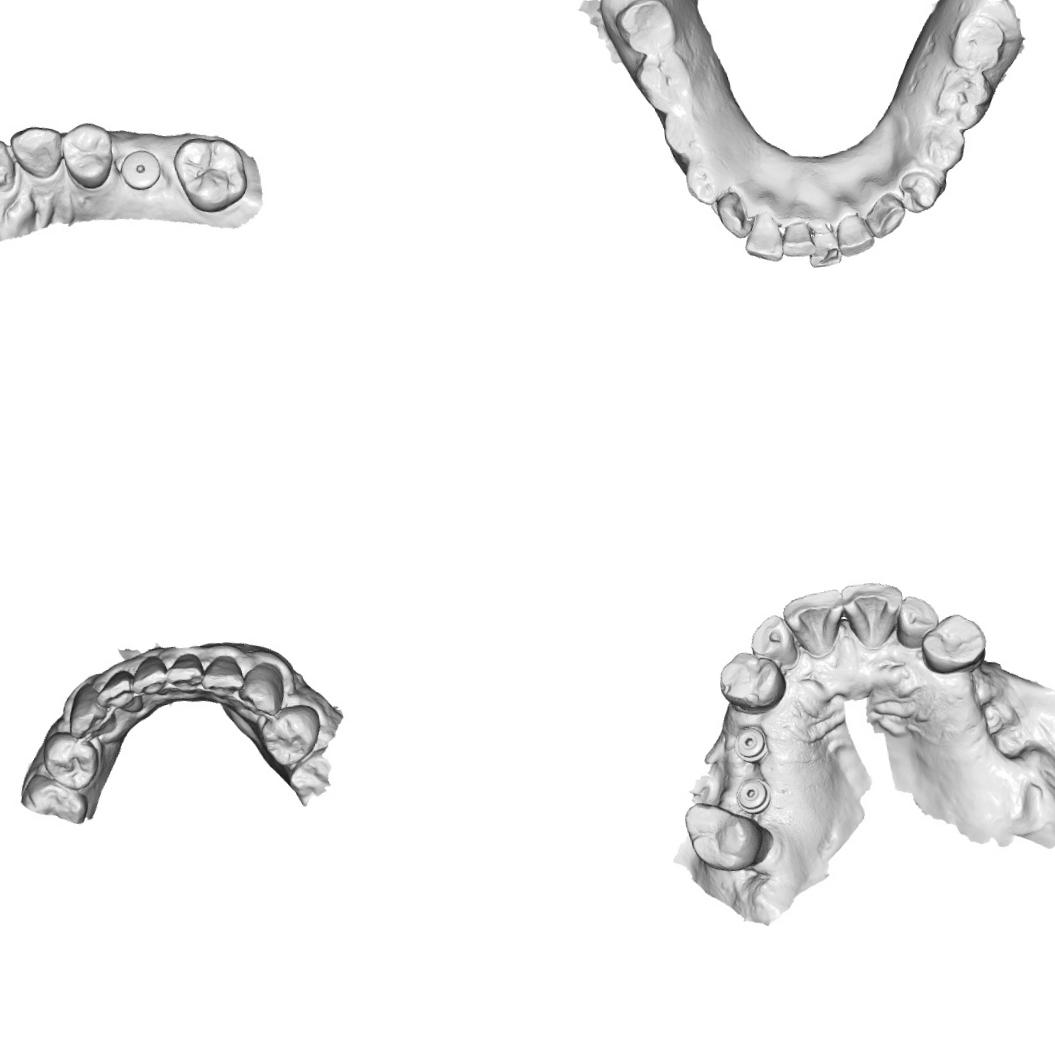canine: (8, 122, 66, 184), (64, 678, 118, 740), (236, 658, 290, 720), (710, 189, 754, 243), (861, 192, 909, 240)
implant: (116, 145, 164, 194), (730, 723, 773, 765), (733, 776, 774, 816)
incisor: (780, 586, 850, 663), (839, 577, 907, 652), (746, 610, 802, 672), (890, 592, 943, 650), (740, 207, 788, 267), (198, 650, 244, 701), (96, 669, 143, 718), (804, 215, 844, 272), (834, 211, 878, 259), (128, 650, 169, 701), (166, 650, 206, 697), (777, 218, 817, 262), (0, 133, 17, 198)
molar: (680, 794, 776, 878), (168, 127, 254, 220), (928, 64, 998, 134), (630, 50, 698, 118), (944, 11, 1012, 76), (611, 0, 680, 61)
premolar: (714, 646, 791, 720), (255, 700, 328, 770), (916, 610, 992, 676), (58, 117, 118, 194), (35, 729, 104, 795), (919, 122, 970, 176), (894, 164, 945, 218), (681, 153, 729, 208), (659, 110, 707, 161)
